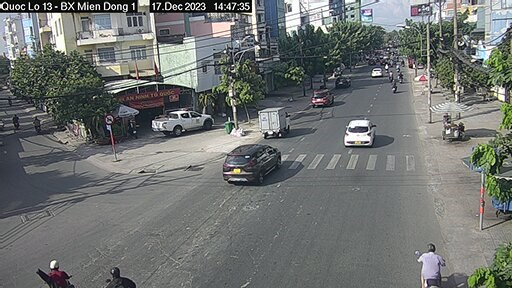car: (225, 139, 276, 183), (149, 107, 209, 139), (344, 113, 373, 149), (311, 90, 333, 107)
truck: (253, 105, 293, 138)
